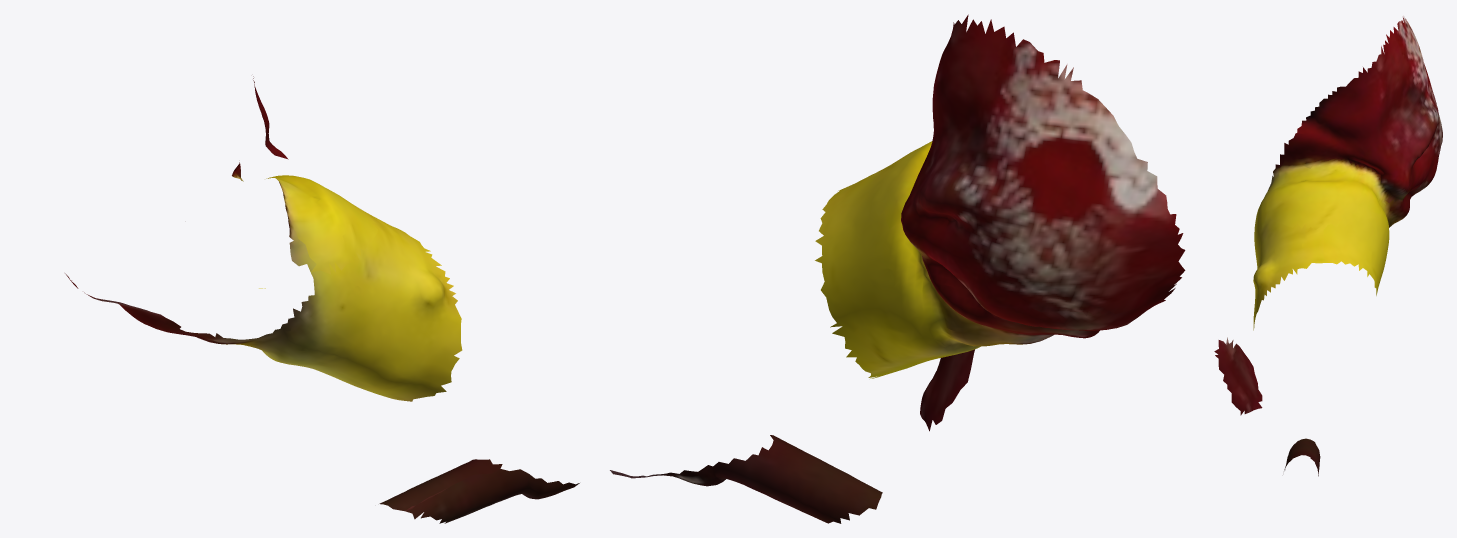
File: taiko_antebrazo_izq.glb
3 renders of one model, left to right at view 1: azimuth 30°, elevation 25°; view 2: azimuth 150°, elevation 25°; view 3: azimuth 270°, elevation 25°, orthographic. The views are drawn at different scales.
Visible parts, largest first — view 1: antebrazo_izq; view 2: antebrazo_izq; view 3: antebrazo_izq.
Part boxes in pixels (bbox=[...]): antebrazo_izq: bbox=[65, 76, 579, 523]; antebrazo_izq: bbox=[610, 14, 1185, 523]; antebrazo_izq: bbox=[1214, 16, 1442, 476].
Bounding box in the file's own units: 0.2047 × 0.1942 × 0.108.
Materials: 1 (1 with a texture image).
